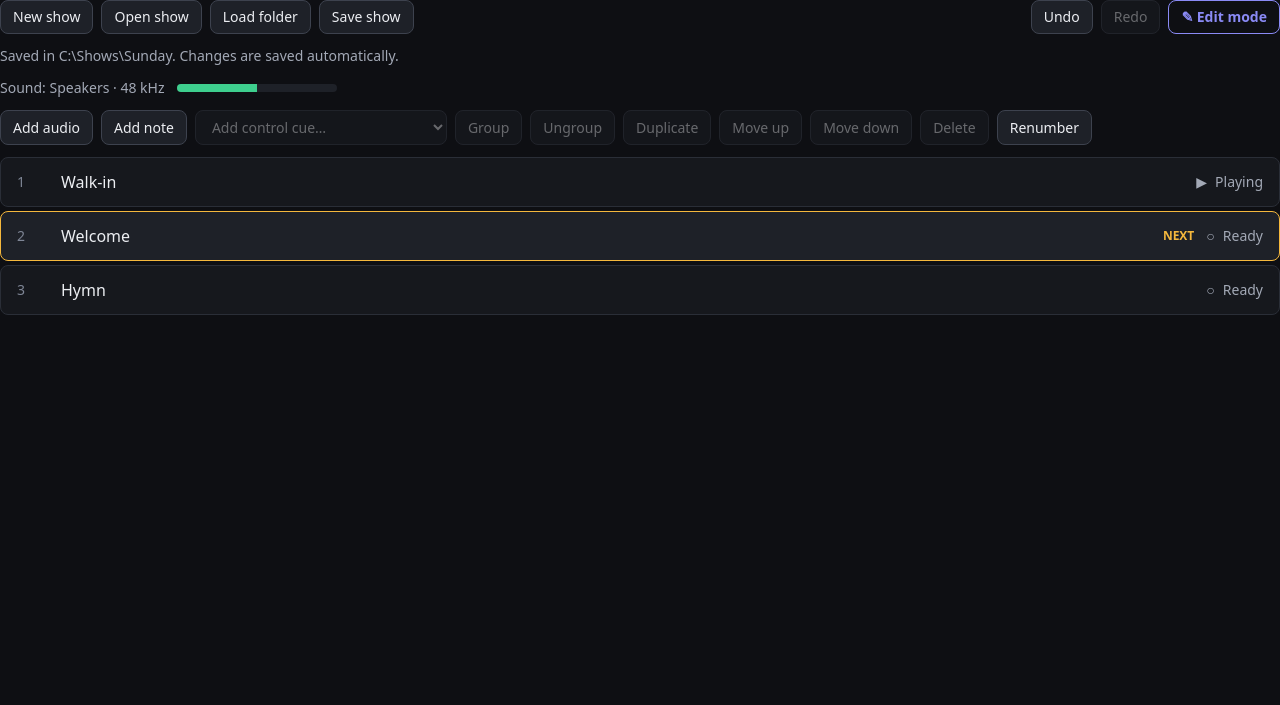
it: editing cues › shows the core's reason when an edit is refused
The width and height of the screenshot is (1280, 705).
Click the text "Welcome" at (96, 236), box 61,225 -> 130,247
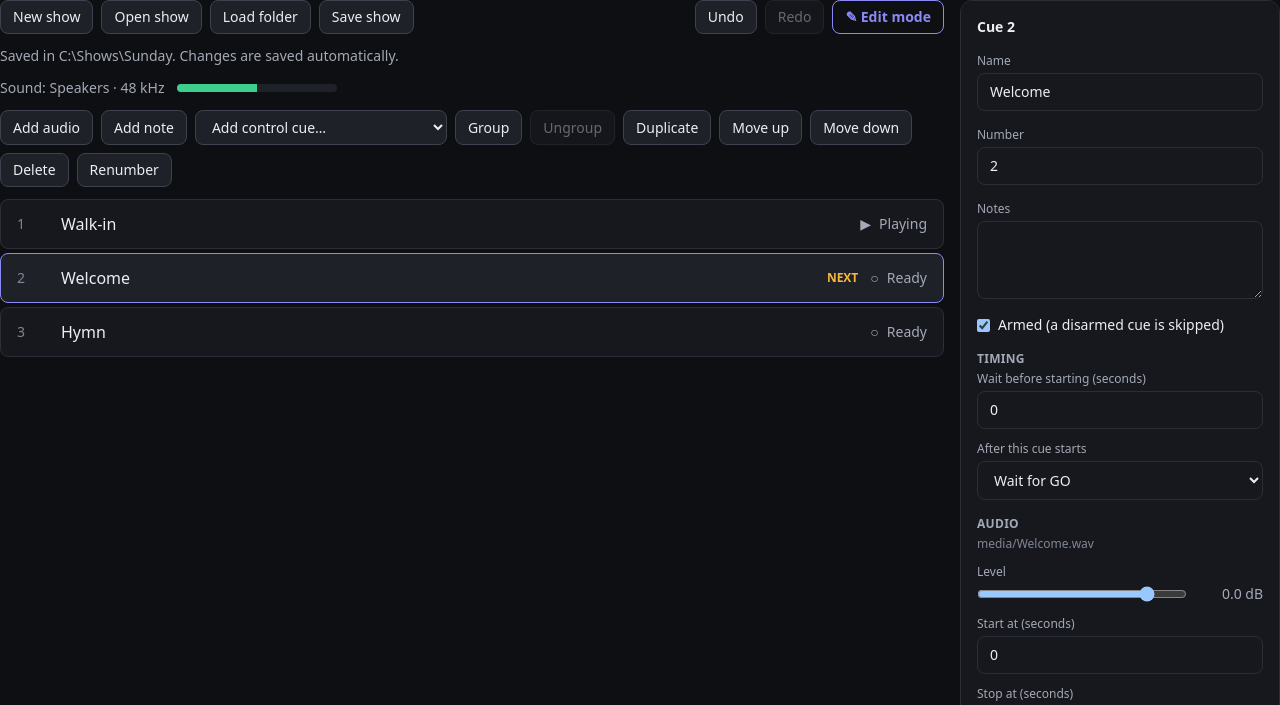
Replace the text in the field labelled "Wait before starting (seconds)" with "-5" at (1120, 410), box 977,391 -> 1263,429
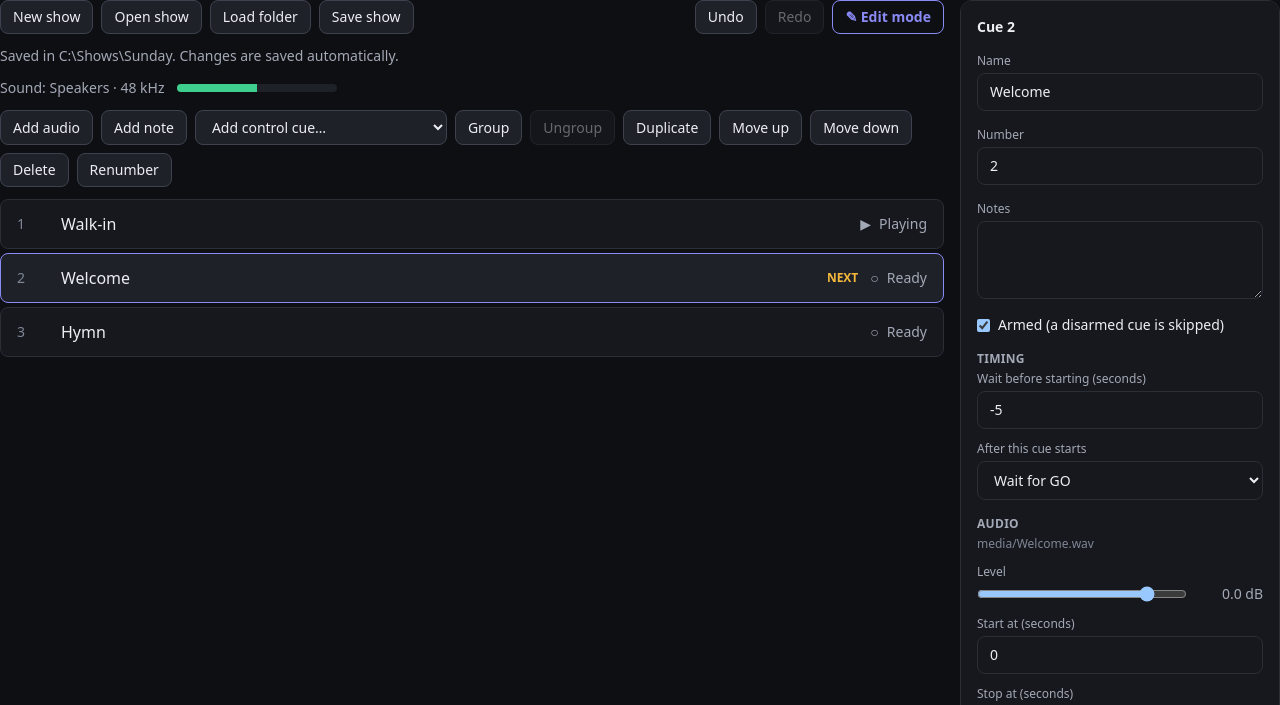
Leave the field labelled "Wait before starting (seconds)", box 977,391 -> 1263,429
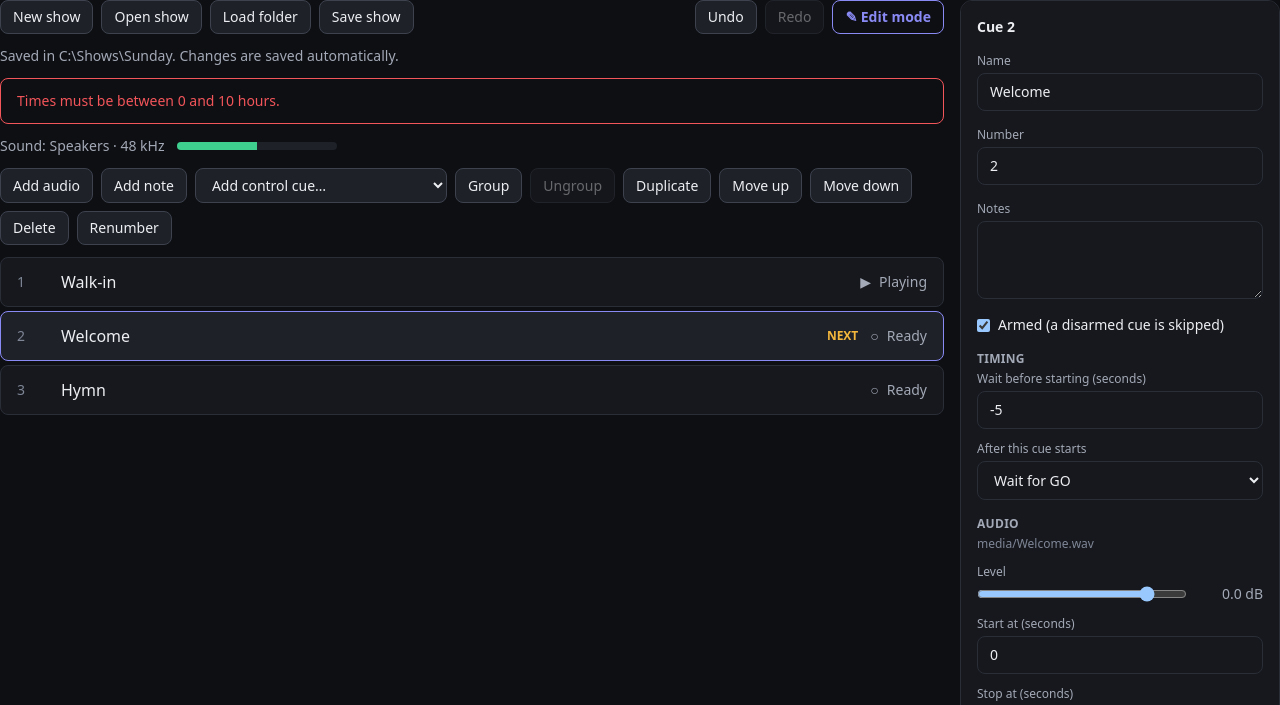
Check: the message shows "Times must be between", box 17,91 -> 280,110
